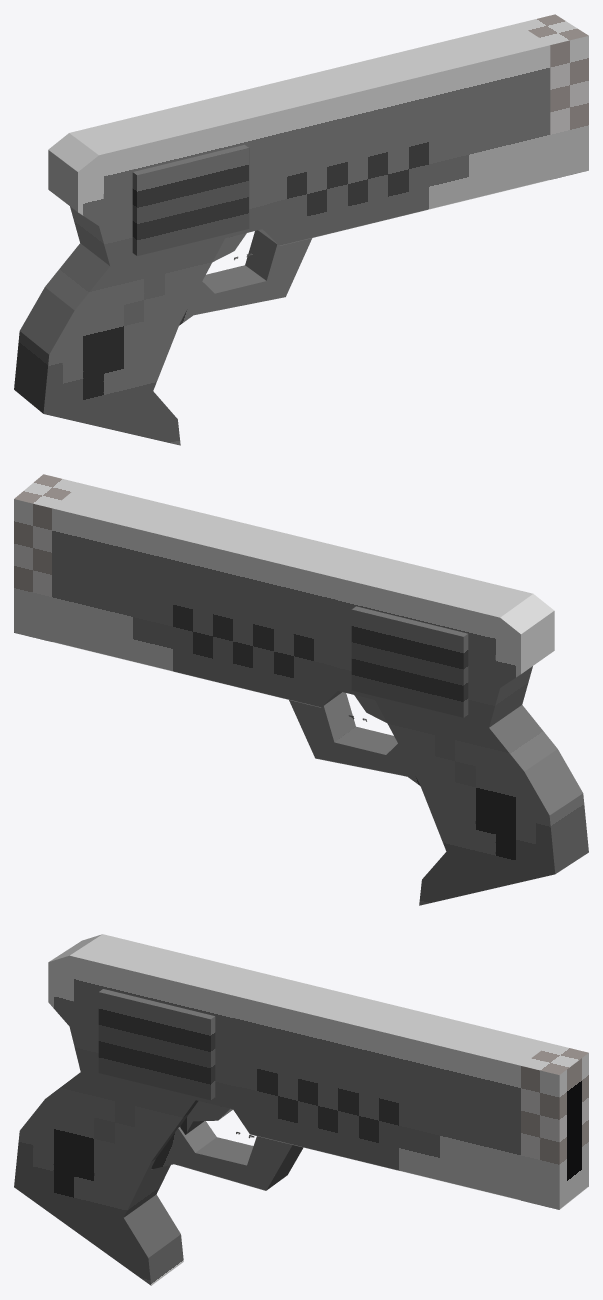
Rendered from pistol.fbx.
The picture shows the model from 3 angles, top to bottom: view 1: azimuth 30°, elevation 25°; view 2: azimuth 150°, elevation 25°; view 3: azimuth 330°, elevation 25°; orthographic projection.
Visible parts, largest first — view 1: pistol_ingame_Base, pistol_ingame_Barrel, pistol_ingame_Trigger_1; view 2: pistol_ingame_Base, pistol_ingame_Barrel, pistol_ingame_Trigger_1; view 3: pistol_ingame_Base, pistol_ingame_Barrel, pistol_ingame_Trigger_1, pistol_ingame_Trigger_2.
Part boxes in pixels (x1,y1,x2,y2): pistol_ingame_Base: (14,14,588,445); pistol_ingame_Barrel: (132,144,249,255); pistol_ingame_Trigger_1: (179,230,312,325); pistol_ingame_Base: (14,474,588,905); pistol_ingame_Barrel: (351,606,468,717); pistol_ingame_Trigger_1: (289,692,420,785); pistol_ingame_Base: (14,934,588,1285); pistol_ingame_Barrel: (98,989,215,1100); pistol_ingame_Trigger_1: (151,1121,303,1190); pistol_ingame_Trigger_2: (180,1101,232,1134).
Bounding box in the file's own units: 4.41 × 2.4 × 0.5661.
